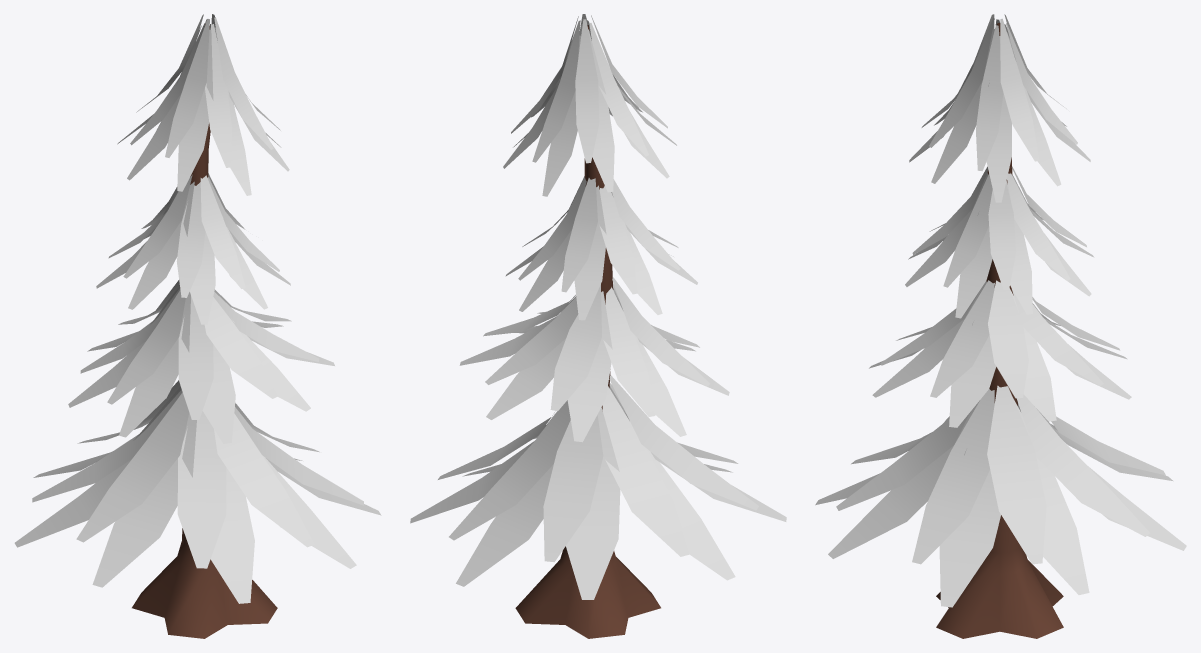
Rendered from Fir3.fbx.
3 views of the same model, side by side, from view 1: azimuth 30°, elevation 25°; view 2: azimuth 150°, elevation 25°; view 3: azimuth 270°, elevation 25° (orthographic).
Visible parts, largest first — view 1: Fir3; view 2: Fir3; view 3: Fir3.
Boxes of the visible parts, x1,y1,x2,y2 form: Fir3: [14, 14, 381, 638]; Fir3: [410, 14, 786, 638]; Fir3: [815, 14, 1186, 638].
Bounding box in the file's own units: 683 × 1213 × 684.
